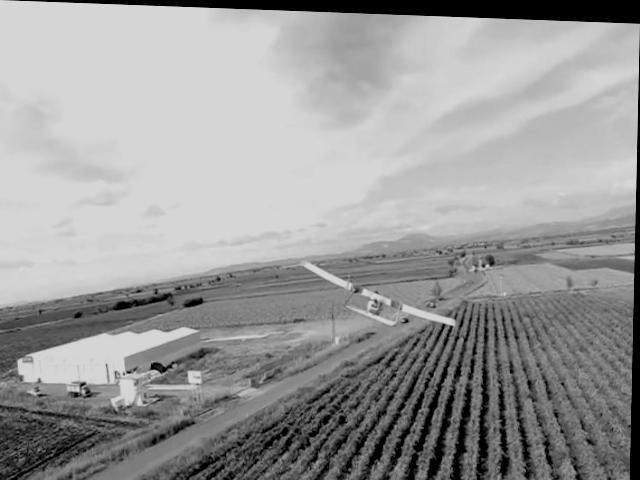hedef: (299, 251, 462, 332)
